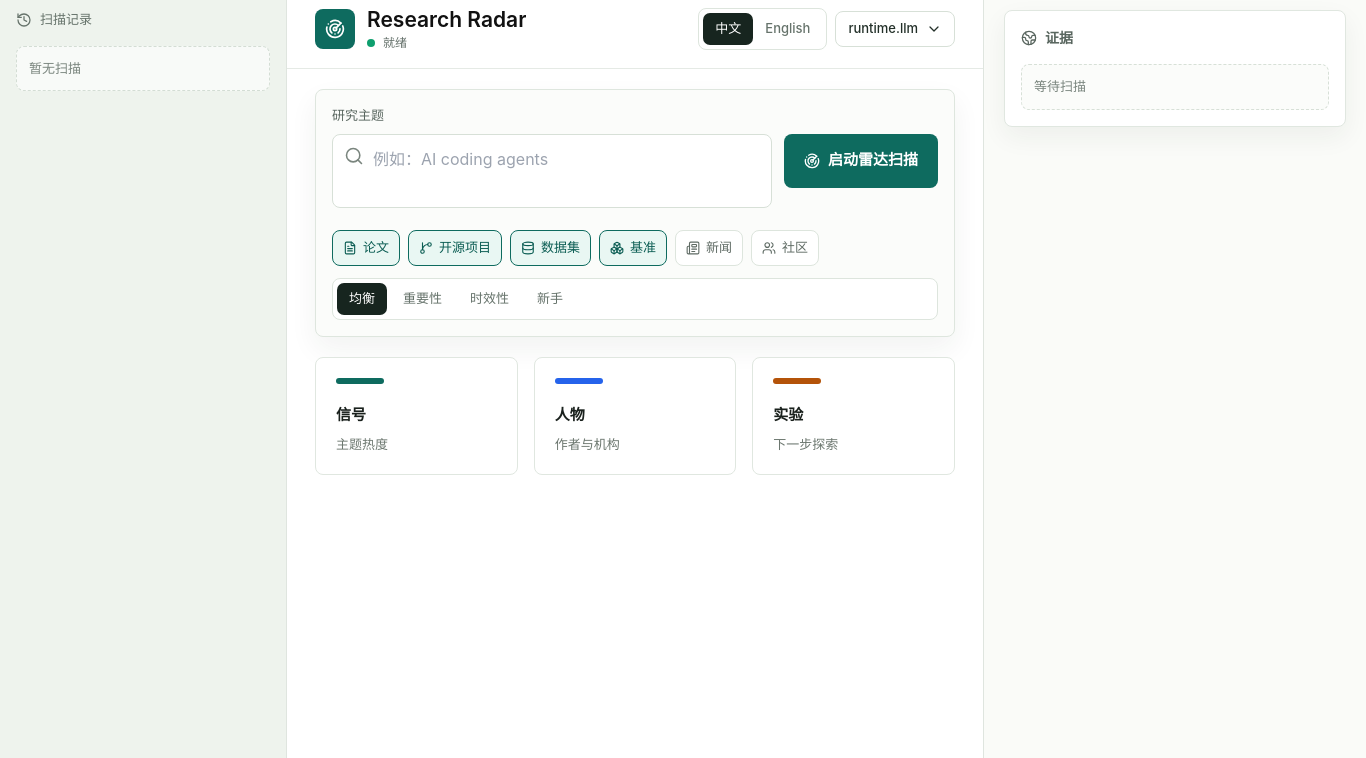
Test: Research Radar POC page › localizes the active run chip and pending section fallback in Chinese
Type "AI coding agents" into the text box labelled "研究主题" at [552, 170], box [332,134,772,208]
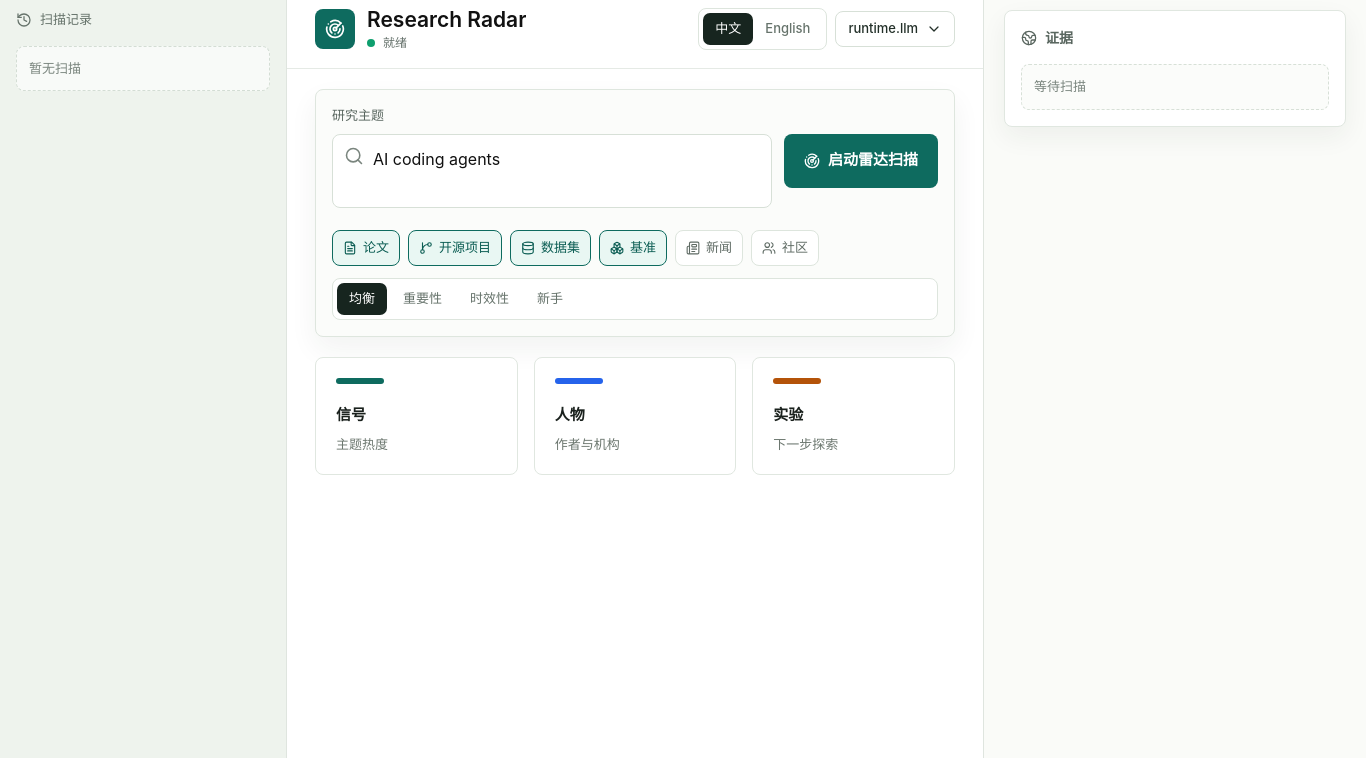
Click the button "启动雷达扫描" at [861, 160], box [784,134,938,188]
(page scrolled)
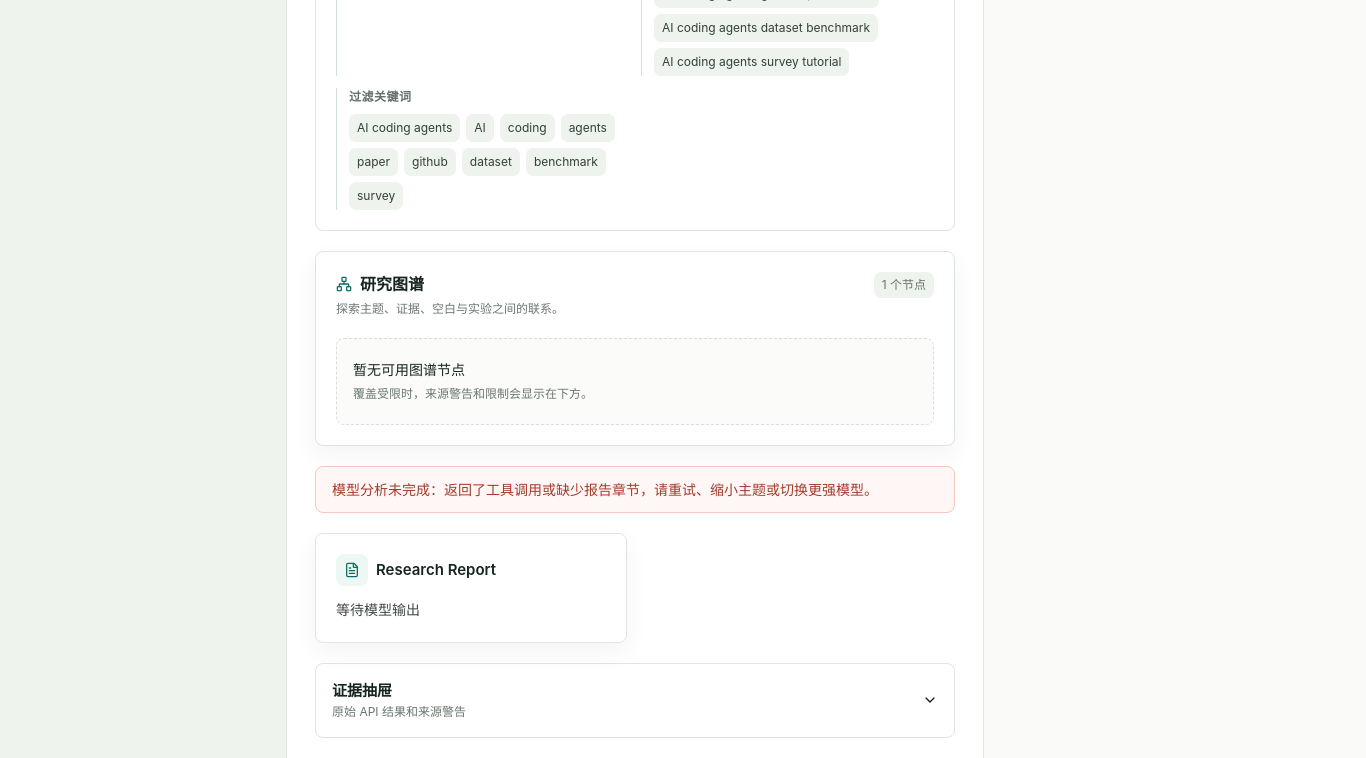
Expected: the text "等待模型输出" is shown, [336,601,420,618]
